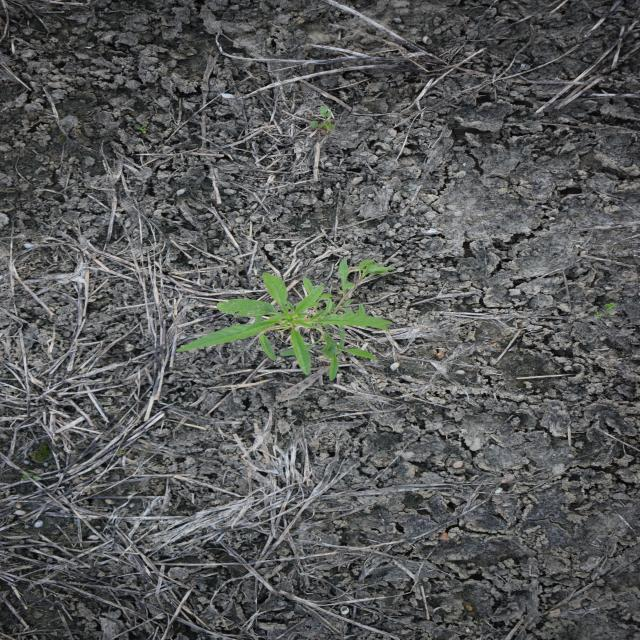Waterhemp: (174, 258, 398, 382)
